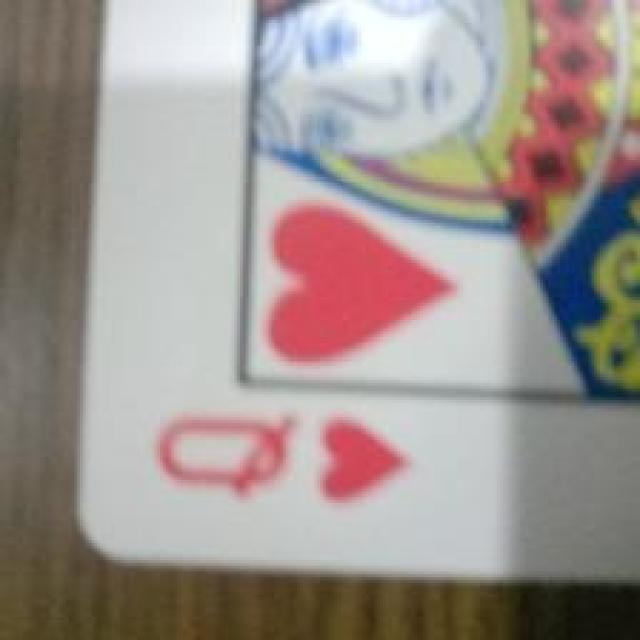Queen of hearts: (79, 0, 637, 580)
